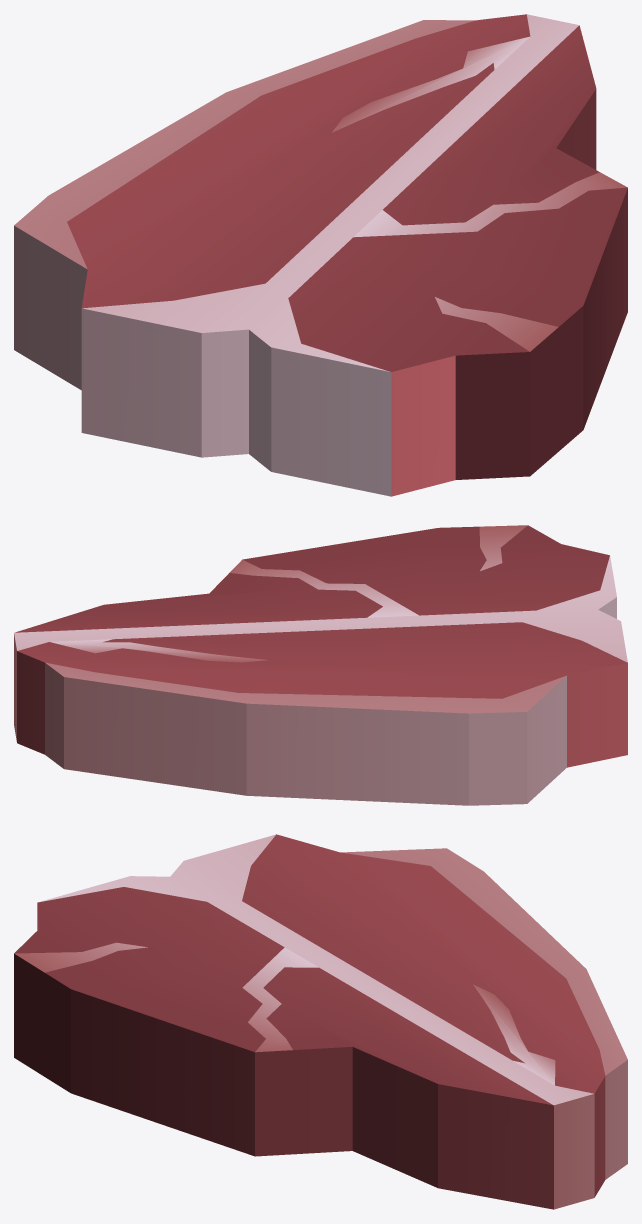
Rendered from 3D_Slicer_Items_Steak.fbx.
3 views of the same model, one above another, from view 1: azimuth 30°, elevation 25°; view 2: azimuth 150°, elevation 25°; view 3: azimuth 270°, elevation 25° (orthographic). The views are drawn at different scales.
Visible parts, largest first — view 1: 3D_Slicer_Items_Steak; view 2: 3D_Slicer_Items_Steak; view 3: 3D_Slicer_Items_Steak.
Boxes of the visible parts, <box> form: 3D_Slicer_Items_Steak: <box>14,14,627,496</box>; 3D_Slicer_Items_Steak: <box>14,525,627,805</box>; 3D_Slicer_Items_Steak: <box>14,834,627,1209</box>.
Bounding box in the file's own units: 54.33 × 9.74 × 52.
